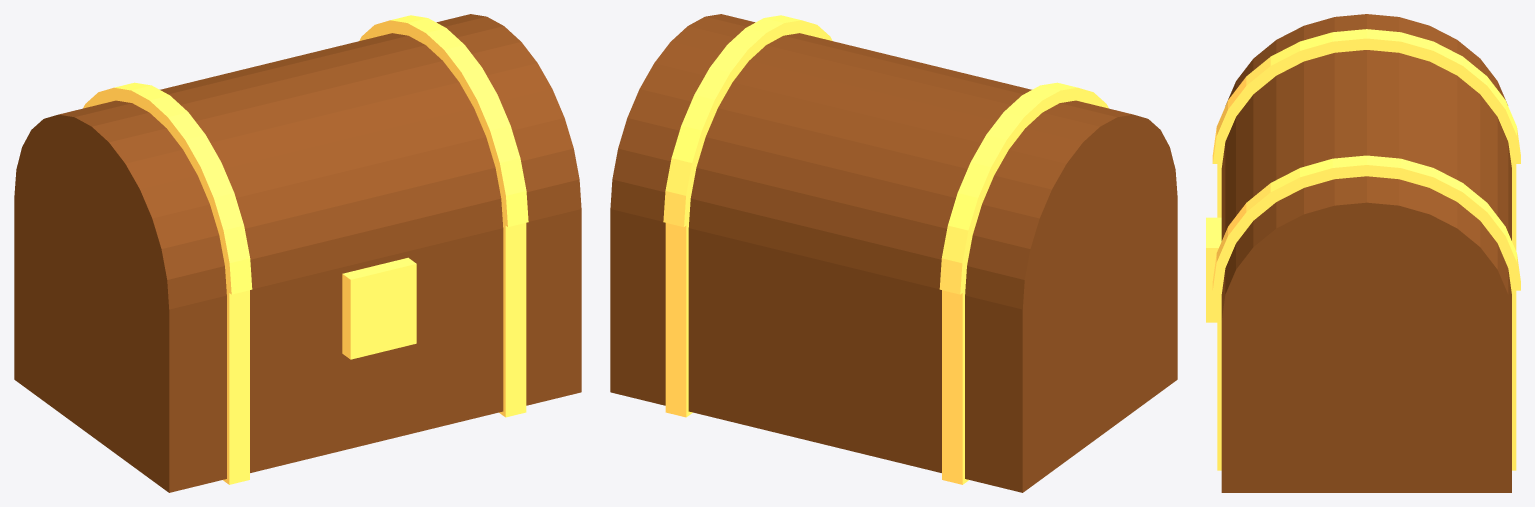
Rendered from chest.glb.
3 views of the same model, side by side, from view 1: azimuth 30°, elevation 25°; view 2: azimuth 150°, elevation 25°; view 3: azimuth 270°, elevation 25° (orthographic). The views are drawn at different scales.
Visible parts, largest first — view 1: chest; view 2: chest; view 3: chest.
Boxes of the visible parts, x1,y1,x2,y2 form: chest: [14, 14, 581, 492]; chest: [610, 14, 1177, 492]; chest: [1206, 14, 1520, 492].
Size of the model in its own units: 2 by 1.51 by 1.41.
